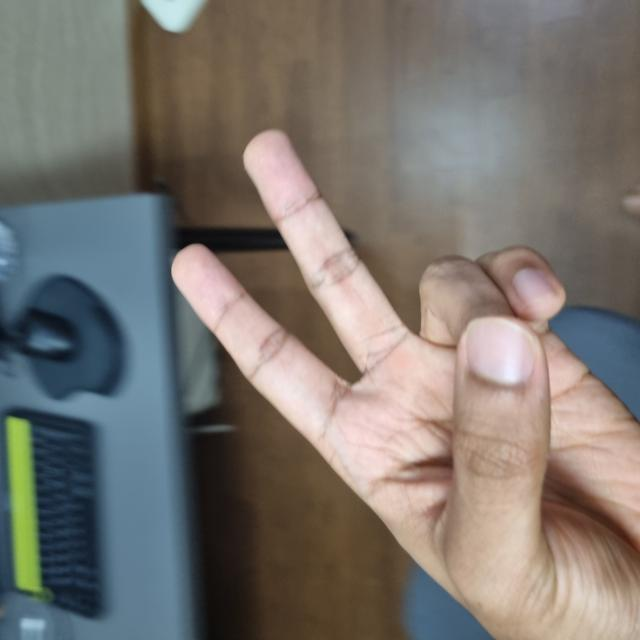Scissors: (2, 175, 503, 640)
